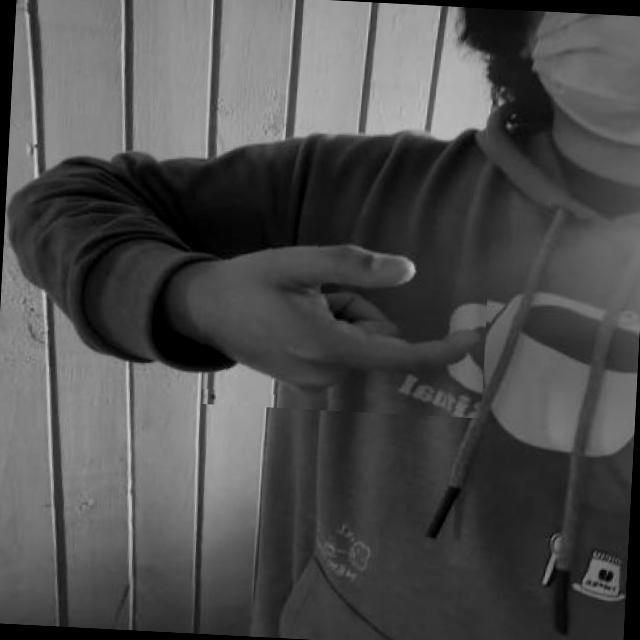G: (196, 212, 492, 418)
